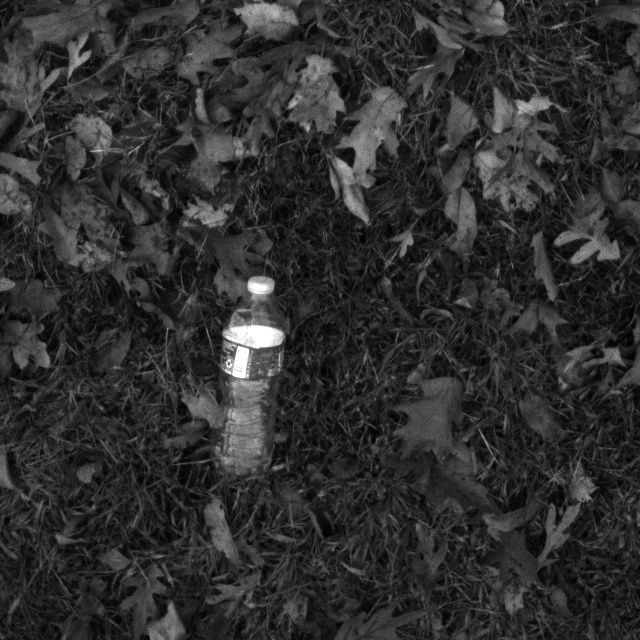bottle: (210, 266, 296, 488)
